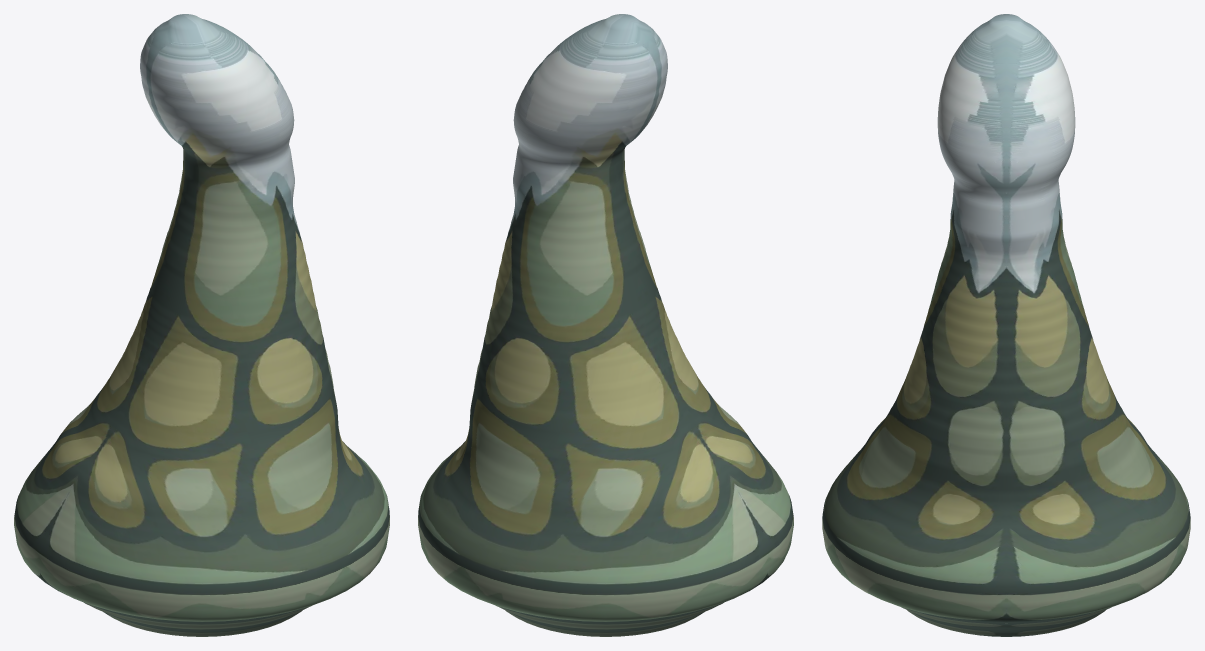
The model's file is snow_monolith.glb.
3 views of the same model, side by side, from view 1: azimuth 30°, elevation 25°; view 2: azimuth 150°, elevation 25°; view 3: azimuth 270°, elevation 25° (orthographic).
Parts seen in each view (by area): view 1: snow_monolith; view 2: snow_monolith; view 3: snow_monolith.
Boxes of the visible parts, x1,y1,x2,y2 form: snow_monolith: (14,14,389,636); snow_monolith: (418,14,793,636); snow_monolith: (822,14,1190,636).
Size of the model in its own units: 1 by 1.73 by 1.
1 material, 1 textured.
